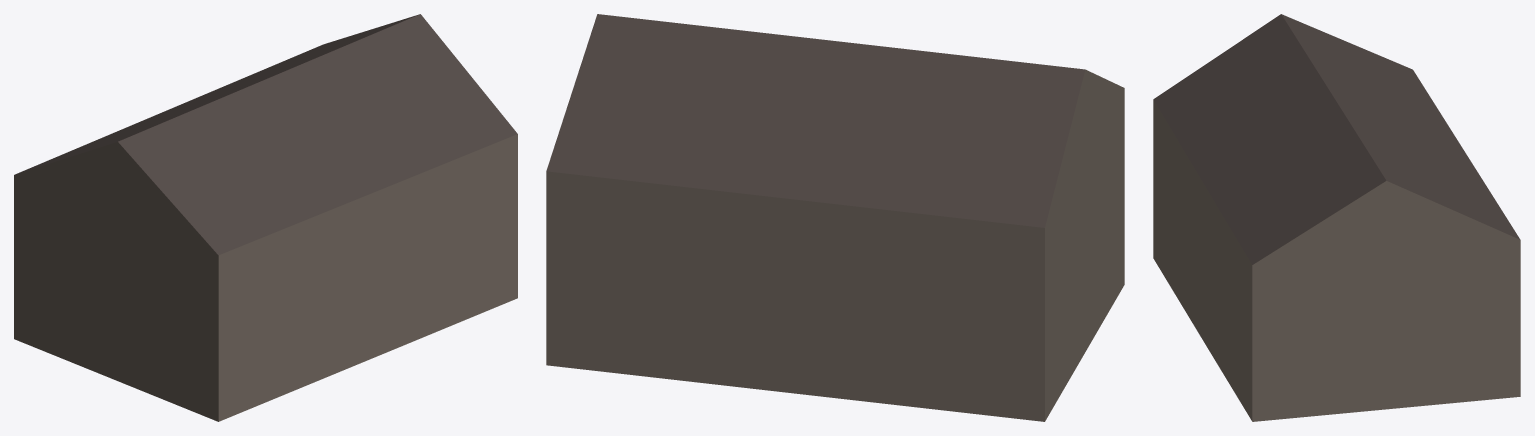
3 views of the same model, side by side, from view 1: azimuth 30°, elevation 25°; view 2: azimuth 150°, elevation 25°; view 3: azimuth 270°, elevation 25° (orthographic). The views are drawn at different scales.
Visible parts, largest first — view 1: HP-w1198667819; view 2: HP-w1198667819; view 3: HP-w1198667819.
Boxes of the visible parts, x1,y1,x2,y2 form: HP-w1198667819: (14, 14, 517, 421); HP-w1198667819: (546, 14, 1124, 421); HP-w1198667819: (1153, 14, 1520, 421).
Size of the model in its own units: 24.07 by 13.12 by 19.1.
